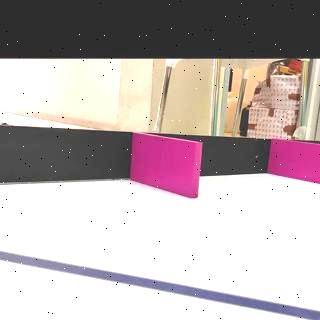xparking: (136, 142, 199, 190), (274, 144, 320, 182)
